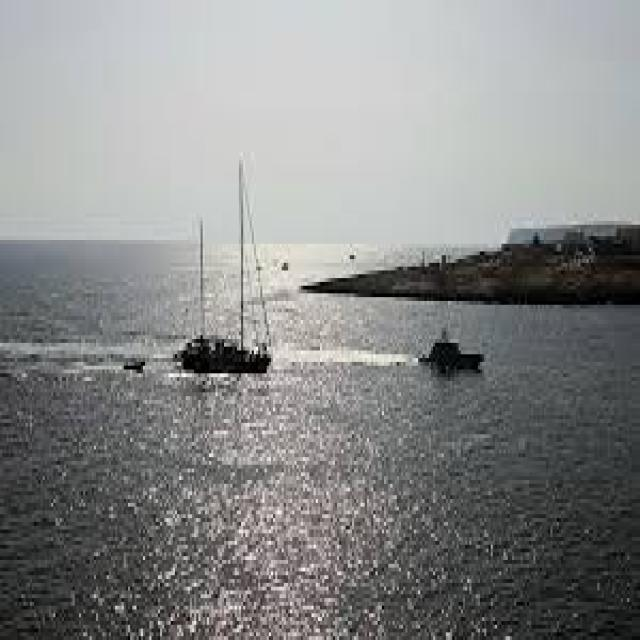fishing boat: (172, 154, 274, 375), (413, 315, 484, 382)
